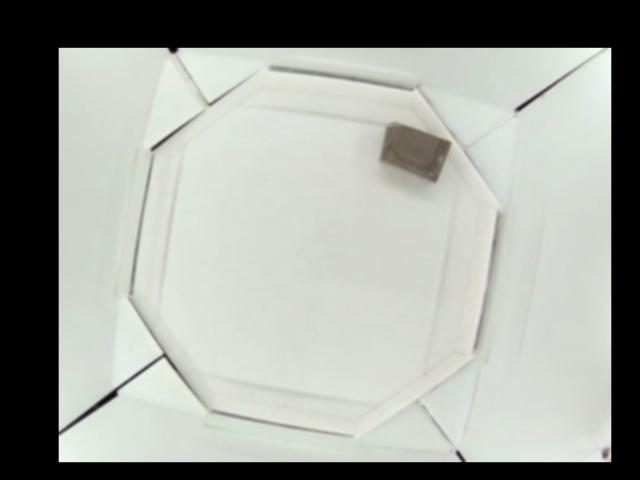China: (377, 121, 450, 179)
